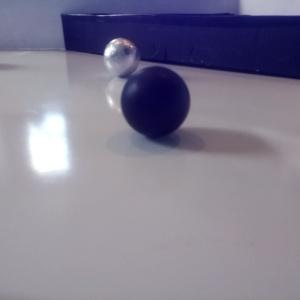zone: (62, 12, 300, 79)
